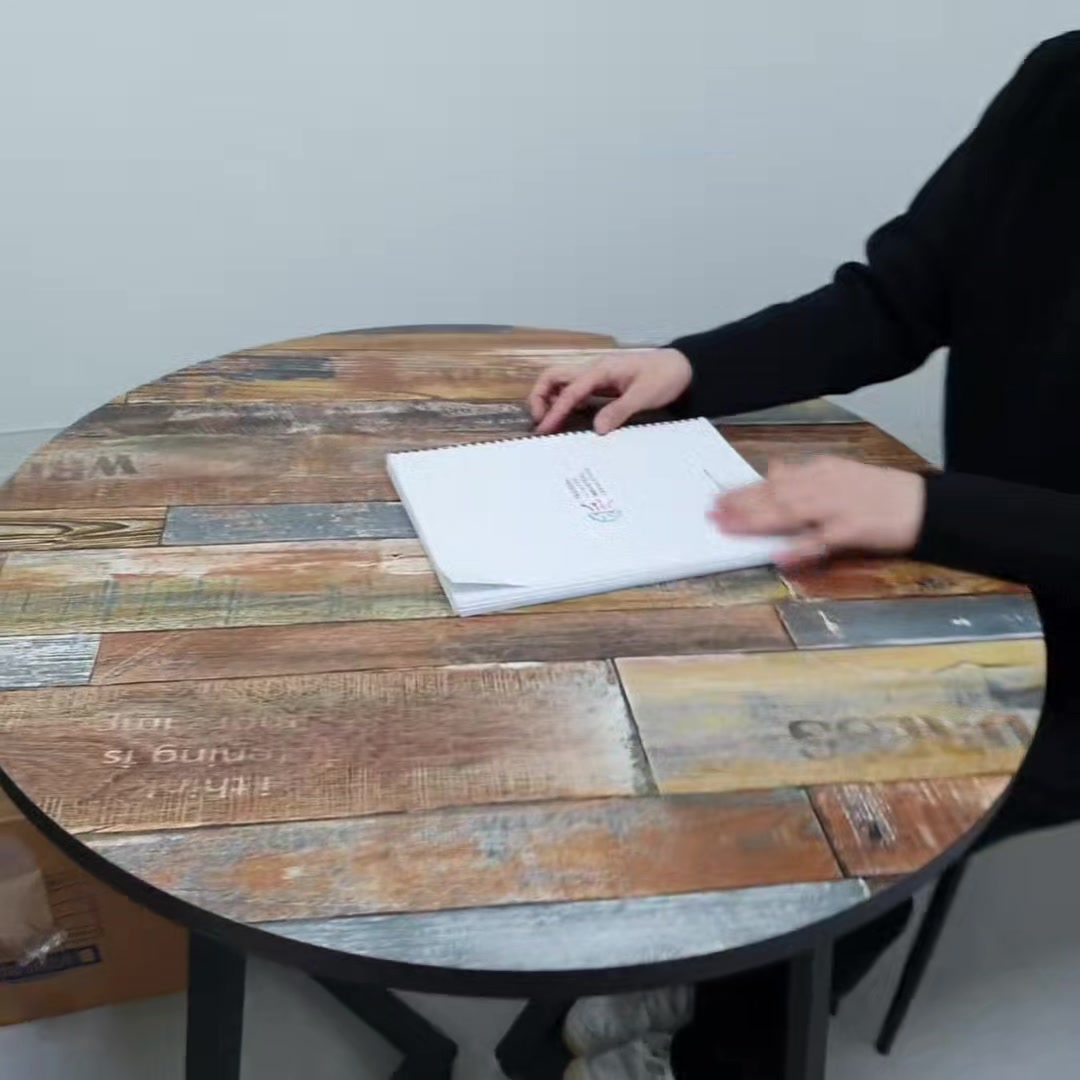book: (380, 412, 838, 620)
